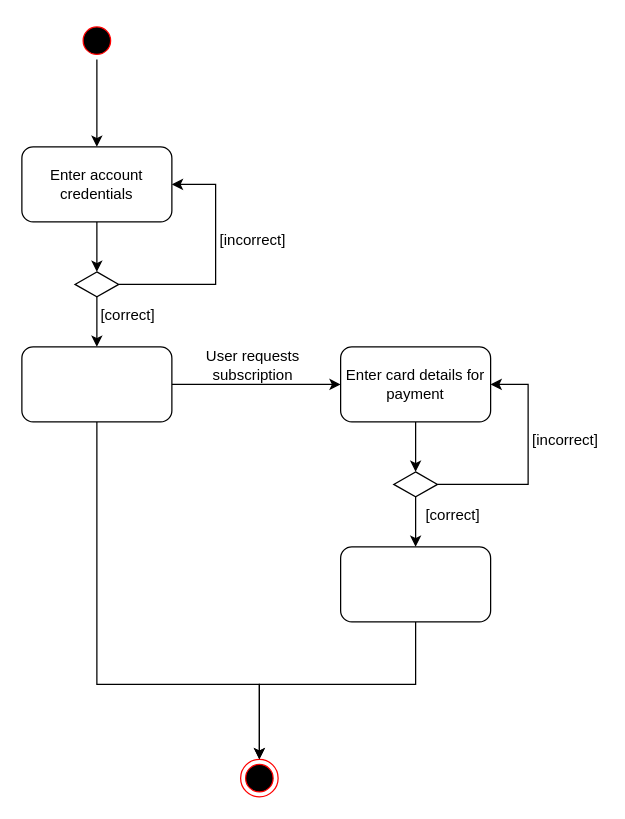
This 625x819 diagram has some shape labels left out. Here are the shapes that lost their labels. From the top down, the centre of each, then its label:
At pixel 96 384: "Sign in to account".
At pixel 415 584: "Activate subscription for user".
